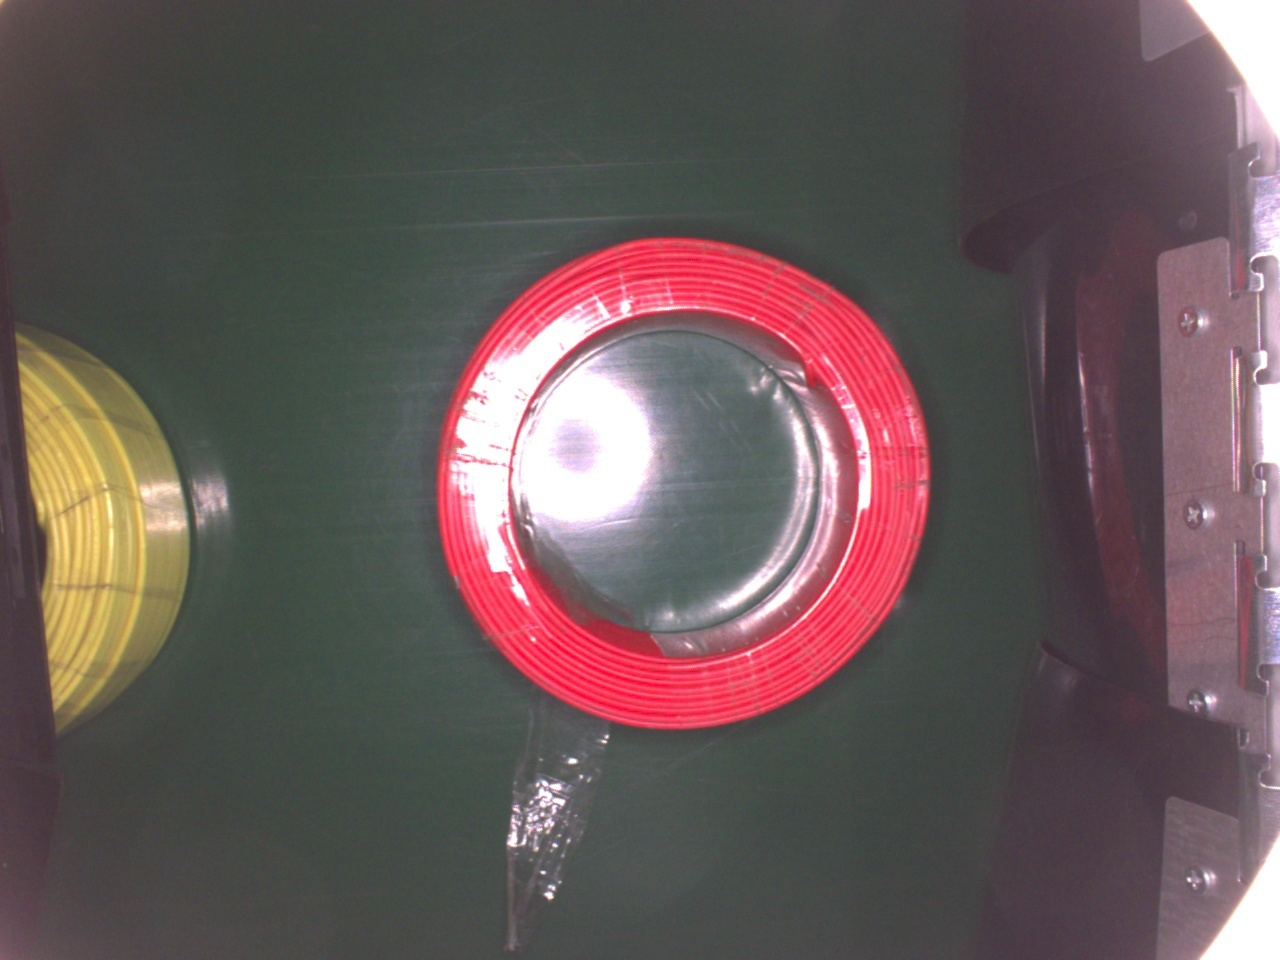red: (435, 234, 934, 731)
yellow: (13, 315, 198, 743)
